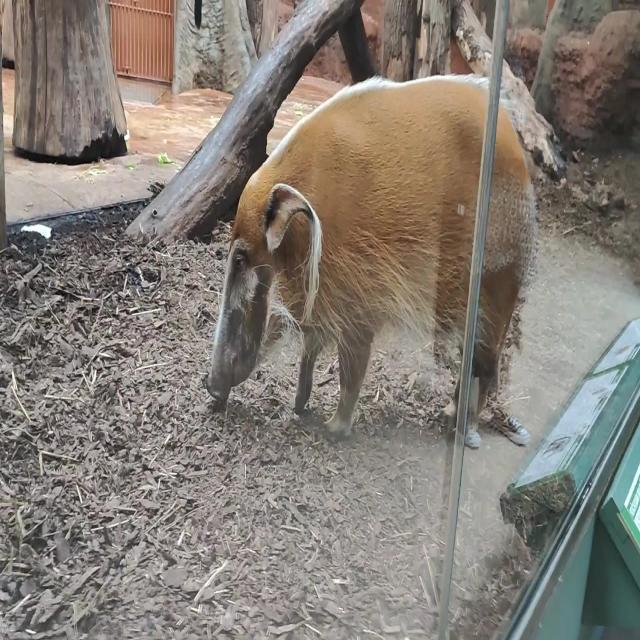boar: (206, 73, 534, 439)
